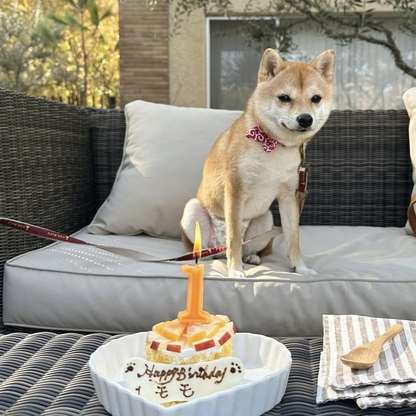shiba: (177, 43, 340, 283)
